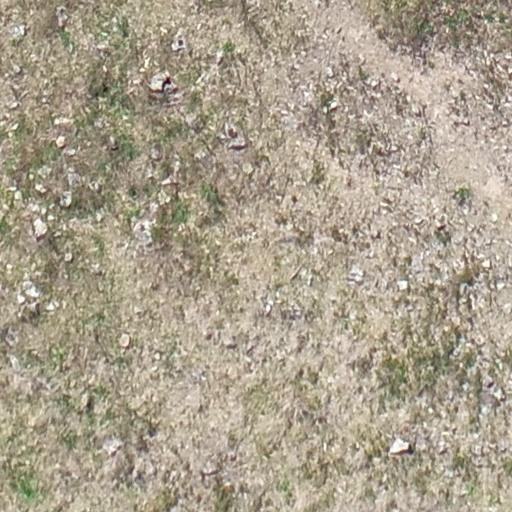stone: (130, 217, 156, 248), (457, 280, 478, 310), (389, 434, 412, 457), (215, 328, 237, 348), (279, 304, 303, 322), (171, 31, 189, 53), (3, 326, 20, 348), (152, 73, 170, 93), (65, 169, 83, 189), (57, 190, 74, 210), (8, 23, 28, 40), (347, 266, 365, 284), (35, 219, 51, 239), (200, 461, 220, 477), (77, 393, 94, 410), (104, 134, 120, 152), (260, 297, 274, 317), (54, 116, 74, 130), (7, 354, 22, 372), (104, 440, 123, 454), (149, 144, 163, 162), (245, 338, 259, 356), (323, 98, 339, 113), (157, 189, 172, 205), (491, 387, 506, 403), (228, 136, 245, 150), (26, 300, 39, 318), (44, 298, 60, 312), (193, 147, 208, 161), (214, 49, 226, 66), (241, 161, 255, 175), (90, 263, 104, 277), (481, 257, 494, 272), (5, 121, 20, 134), (160, 175, 176, 187), (54, 135, 67, 149), (380, 195, 394, 208), (164, 82, 178, 94), (34, 183, 48, 195), (396, 279, 409, 291), (119, 334, 130, 348), (27, 286, 39, 298), (410, 104, 422, 116), (290, 60, 302, 72), (16, 293, 27, 305), (11, 63, 22, 75), (324, 66, 335, 78), (367, 78, 379, 89), (501, 301, 512, 313), (95, 210, 105, 223), (88, 373, 98, 386), (195, 73, 205, 86), (64, 250, 74, 262), (8, 100, 20, 110), (14, 190, 24, 202), (390, 72, 400, 84), (484, 375, 494, 387), (496, 281, 507, 291), (133, 304, 143, 315), (362, 109, 373, 119), (490, 213, 499, 223), (413, 216, 423, 224), (31, 204, 41, 212), (153, 352, 161, 360), (427, 406, 435, 414), (47, 214, 55, 222), (42, 208, 46, 214)
